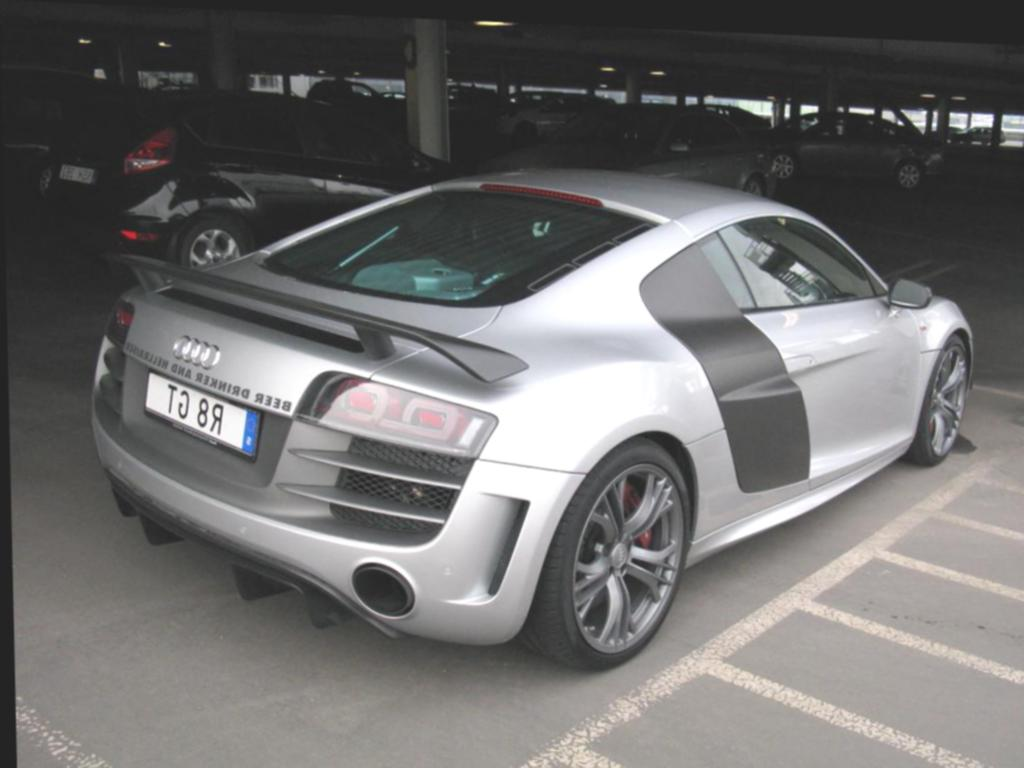License_Plate: (122, 322, 272, 483), (57, 164, 96, 186)
